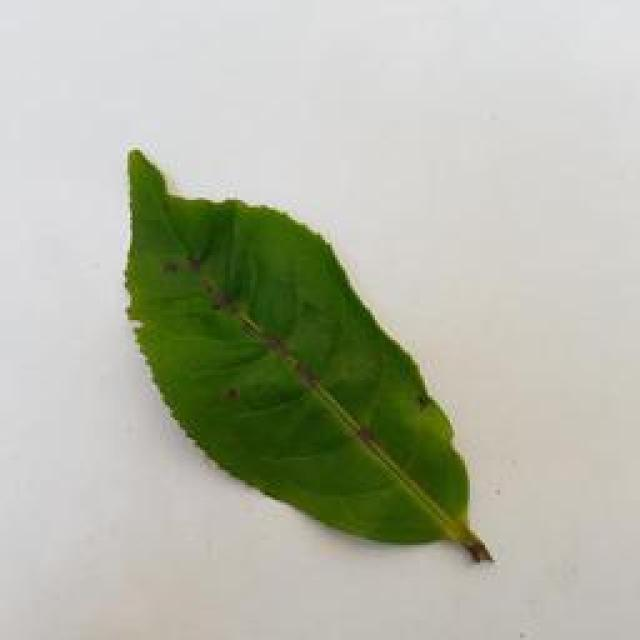Helopeltis: (112, 139, 498, 572)
